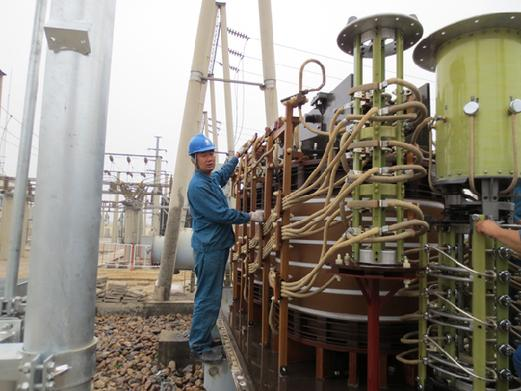oil: (447, 55, 464, 171)
